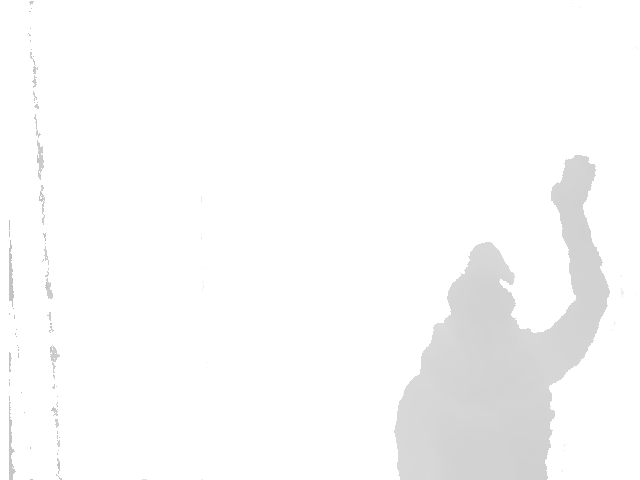hand: (548, 154, 598, 218)
head: (443, 239, 522, 335)
person: (392, 153, 611, 480)
